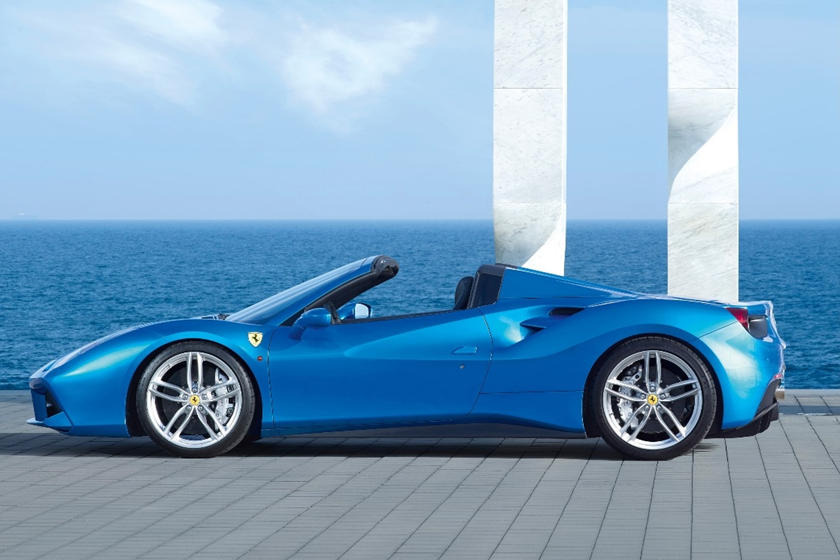mobil: (21, 248, 791, 464)
